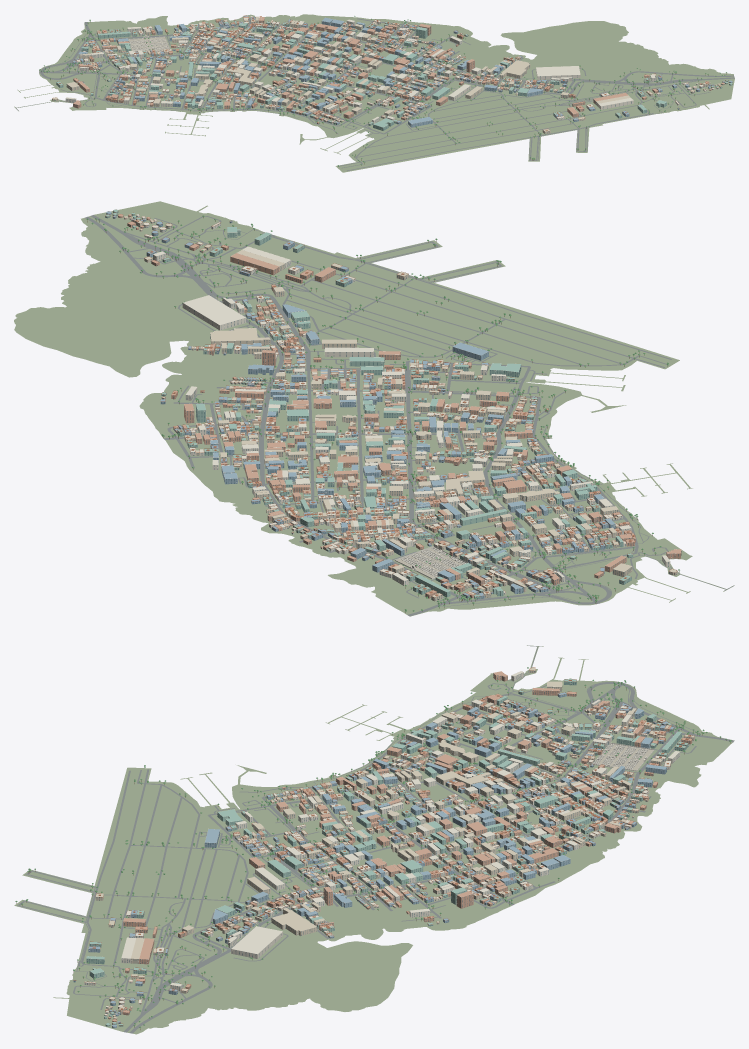
The model's file is manga-v6.1.glb.
3 views of the same model, one above another, from view 1: azimuth 30°, elevation 25°; view 2: azimuth 150°, elevation 25°; view 3: azimuth 270°, elevation 25° (orthographic). The views are drawn at different scales.
Parts seen in each view (by area): view 1: Terrain_ground_-1_0, Buildings_cream_-2_0, Roads_road_2_-2, Buildings_mint_0_-1, Buildings_cream_0_0, Roads_road_0_-2, Buildings_ivory_0_-1, Buildings_peach_0_0, Buildings_peach_-1_0, Buildings_mint_-1_1, Roads_road_-3_1, Roads_road_1_-2 (+66 smaller); view 2: Terrain_ground_-1_0, Buildings_cream_-2_0, Roads_road_2_-2, Details_roof_-1_1, Roads_road_-3_1, Buildings_ivory_0_-1, Buildings_ivory_-1_1, Buildings_mint_0_-1, Buildings_mint_-1_1, Buildings_cream_0_0, Buildings_ivory_-2_1, Roads_road_0_-2 (+62 smaller); view 3: Terrain_ground_-1_0, Buildings_cream_-2_0, Buildings_cream_0_0, Buildings_mint_0_-1, Roads_road_2_-2, Details_roof_-1_1, Buildings_mint_-1_1, Buildings_peach_0_0, Buildings_ivory_0_-1, Buildings_blue_-1_0, Buildings_mint_-2_1, Buildings_peach_-1_1 (+52 smaller).
Boxes of the visible parts, bbox=[...] form: Terrain_ground_-1_0: bbox=[14, 14, 734, 172]; Buildings_cream_-2_0: bbox=[174, 67, 266, 107]; Roads_road_2_-2: bbox=[568, 69, 672, 101]; Buildings_mint_0_-1: bbox=[362, 62, 449, 108]; Buildings_cream_0_0: bbox=[322, 31, 435, 73]; Roads_road_0_-2: bbox=[412, 92, 531, 143]; Buildings_ivory_0_-1: bbox=[376, 64, 470, 110]; Buildings_peach_0_0: bbox=[326, 30, 428, 79]; Buildings_peach_-1_0: bbox=[250, 50, 350, 98]; Buildings_mint_-1_1: bbox=[204, 21, 308, 59]; Roads_road_-3_1: bbox=[47, 59, 152, 103]; Roads_road_1_-2: bbox=[476, 79, 596, 125]; Terrain_ground_-1_0: bbox=[14, 201, 734, 616]; Buildings_cream_-2_0: bbox=[446, 456, 577, 513]; Roads_road_2_-2: bbox=[130, 240, 281, 305]; Details_roof_-1_1: bbox=[265, 465, 427, 540]; Roads_road_-3_1: bbox=[488, 533, 658, 599]; Buildings_ivory_0_-1: bbox=[274, 347, 439, 401]; Buildings_ivory_-1_1: bbox=[268, 478, 434, 542]; Buildings_mint_0_-1: bbox=[272, 357, 428, 413]; Buildings_mint_-1_1: bbox=[273, 471, 396, 537]; Buildings_cream_0_0: bbox=[218, 388, 358, 464]; Buildings_ivory_-2_1: bbox=[377, 496, 536, 567]; Roads_road_0_-2: bbox=[326, 291, 505, 372]; Terrain_ground_-1_0: bbox=[14, 645, 734, 1034]; Buildings_cream_-2_0: bbox=[383, 733, 499, 787]; Buildings_cream_0_0: bbox=[372, 833, 500, 891]; Buildings_mint_0_-1: bbox=[252, 831, 376, 892]; Roads_road_2_-2: bbox=[123, 936, 254, 999]; Details_roof_-1_1: bbox=[493, 784, 619, 838]; Buildings_mint_-1_1: bbox=[494, 784, 619, 839]; Buildings_peach_0_0: bbox=[371, 835, 495, 890]; Buildings_ivory_0_-1: bbox=[252, 836, 371, 893]; Buildings_blue_-1_0: bbox=[377, 782, 495, 841]; Buildings_mint_-2_1: bbox=[492, 732, 614, 788]; Buildings_peach_-1_1: bbox=[493, 783, 620, 838].
Size of what is drawn, in the model's own units: 2275 by 37.45 by 1782.
